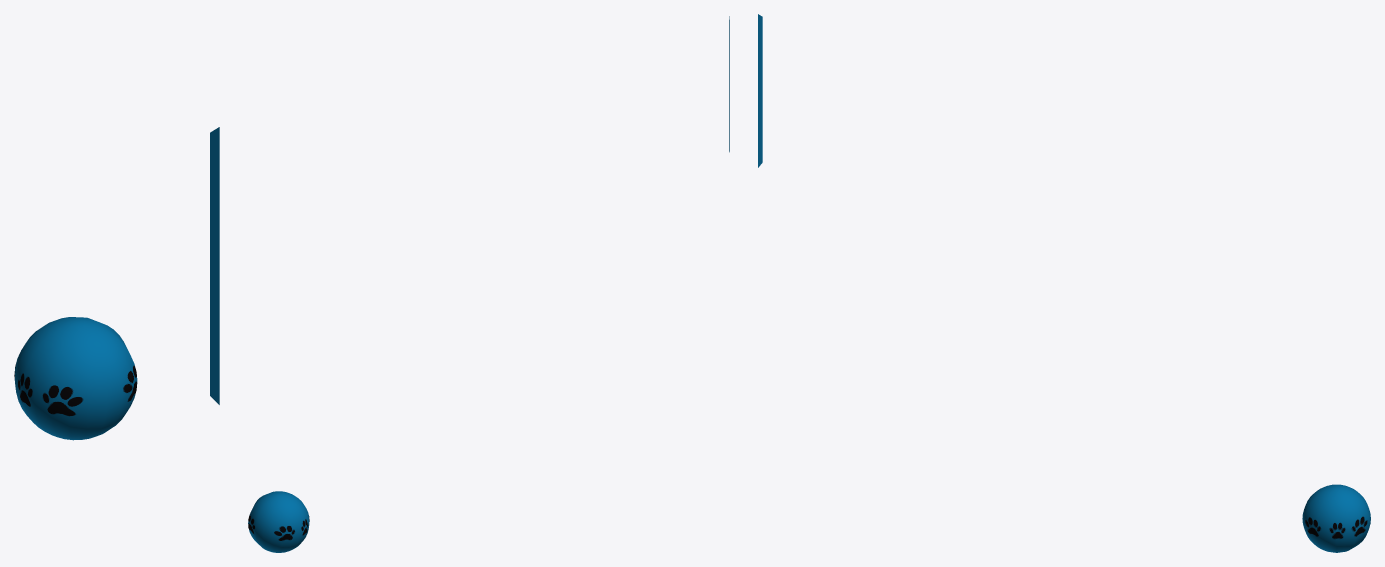
Rendered from ball.fbx.
3 renders of one model, left to right at view 1: azimuth 30°, elevation 25°; view 2: azimuth 150°, elevation 25°; view 3: azimuth 270°, elevation 25°, orthographic. The views are drawn at different scales.
Parts seen in each view (by area): view 1: pSphere2, pCube1; view 2: pSphere2; view 3: pSphere2, pCube1.
Boxes of the visible parts, x1,y1,x2,y2 form: pSphere2: (14,317,137,440); pCube1: (210,127,219,404); pSphere2: (248,491,309,552); pSphere2: (1302,484,1370,552); pCube1: (758,14,762,167).
Size of the model in its own units: 4.89 by 8.36 by 10.71.
